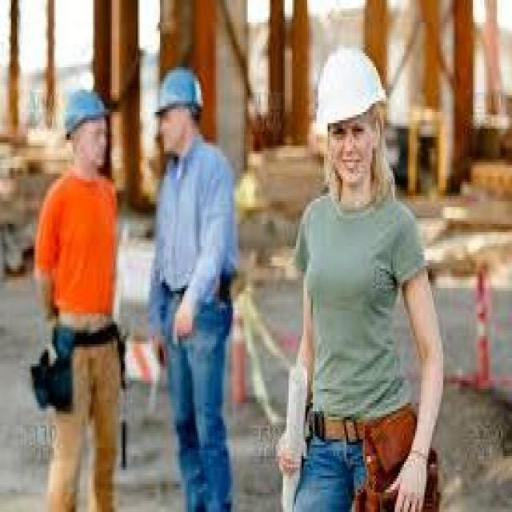helmet: (309, 42, 389, 138), (149, 58, 209, 124), (56, 78, 115, 142)
